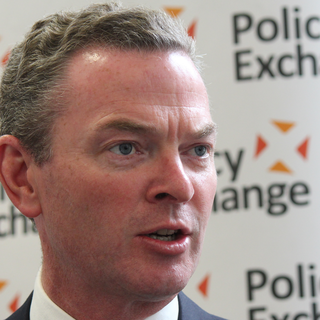eye: (96, 134, 149, 162), (173, 136, 215, 167)
